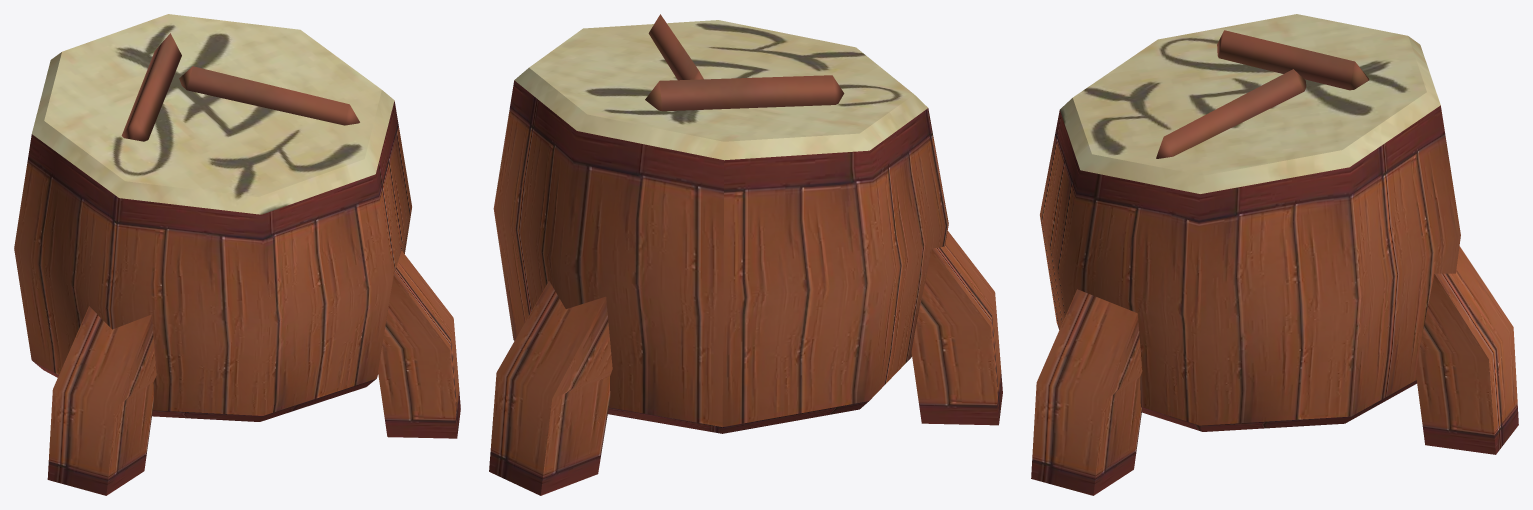
Rendered from pm-drum.glb.
The picture shows the model from 3 angles, left to right: view 1: azimuth 30°, elevation 25°; view 2: azimuth 150°, elevation 25°; view 3: azimuth 270°, elevation 25°; orthographic projection. The views are drawn at different scales.
Parts seen in each view (by area): view 1: Drum; view 2: Drum; view 3: Drum.
Part boxes in pixels (left/top/right/bottom): Drum: left=14, top=14, right=460, bottom=495; Drum: left=489, top=14, right=1002, bottom=495; Drum: left=1031, top=14, right=1518, bottom=495.
Size of the model in its own units: 1.94 by 1.58 by 2.01.
Materials: 2 (2 with a texture image).
